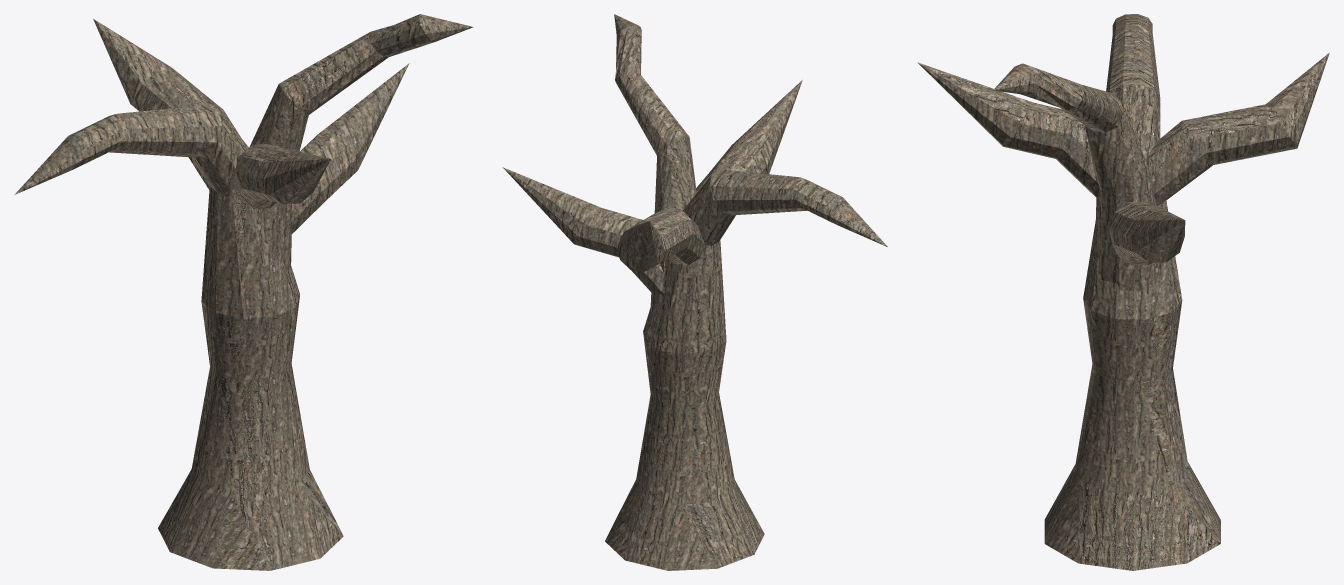
File: Tree.FBX
3 renders of one model, left to right at view 1: azimuth 30°, elevation 25°; view 2: azimuth 150°, elevation 25°; view 3: azimuth 270°, elevation 25°, orthographic. The views are drawn at different scales.
Visible parts, largest first — view 1: Cylinder001; view 2: Cylinder001; view 3: Cylinder001.
Part boxes in pixels (left/top/right/bottom): Cylinder001: left=14, top=14, right=473, bottom=570; Cylinder001: left=502, top=14, right=887, bottom=570; Cylinder001: left=917, top=14, right=1329, bottom=570.
Size of the model in its own units: 633 by 756 by 541.
1 material, 1 textured.
